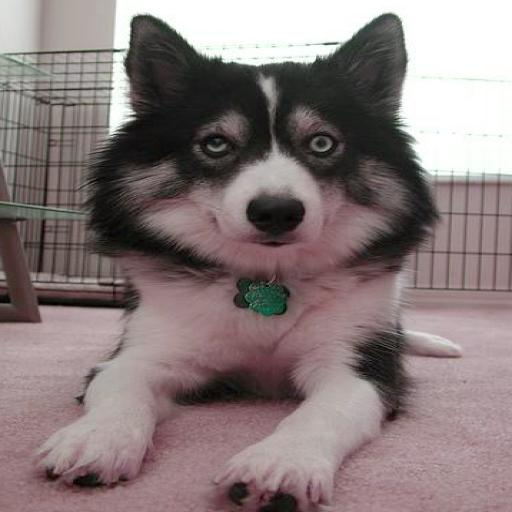dog_face: (123, 12, 412, 235)
